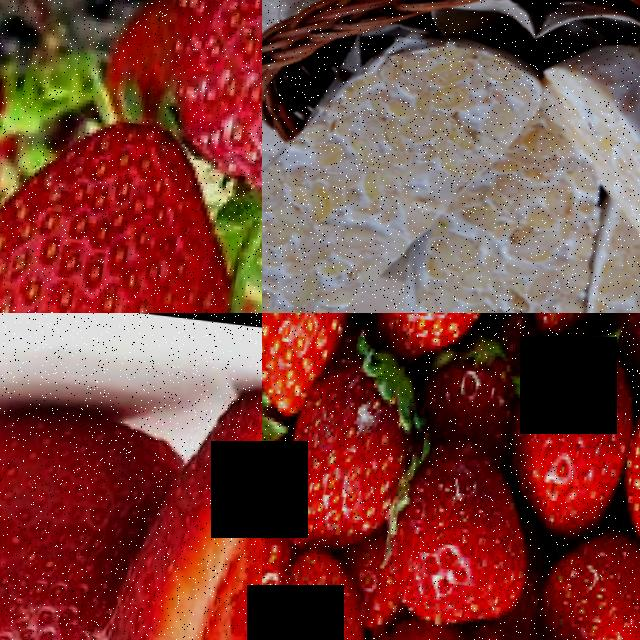strawberry: (0, 147, 258, 313), (0, 385, 151, 640), (138, 372, 262, 640), (301, 344, 423, 554), (511, 322, 640, 516), (395, 435, 517, 627), (582, 542, 640, 640), (262, 592, 380, 640), (377, 313, 506, 354), (262, 313, 367, 361), (262, 377, 293, 514)
tempeh: (262, 22, 541, 313), (415, 149, 620, 313), (539, 31, 640, 313)
